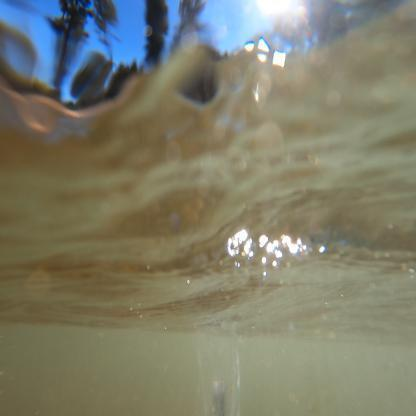Rác: (194, 320, 246, 414)
